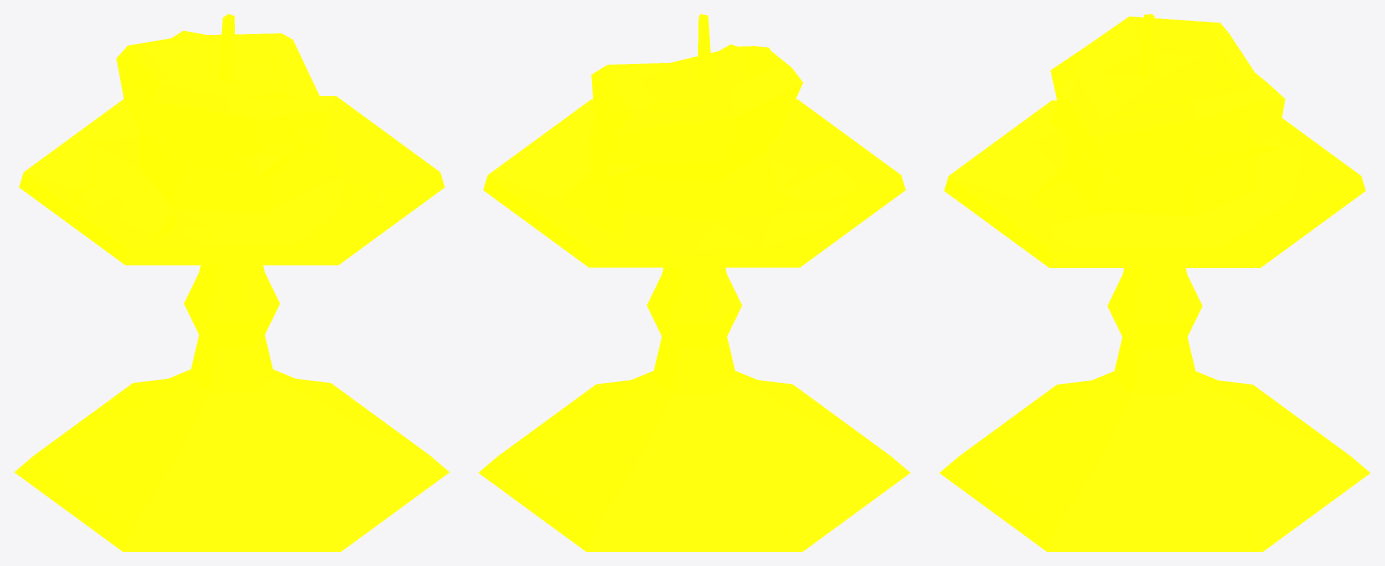
Rendered from candle-holder-short-b-unlit-christmas.glb.
3 views of the same model, side by side, from view 1: azimuth 30°, elevation 25°; view 2: azimuth 150°, elevation 25°; view 3: azimuth 270°, elevation 25° (orthographic).
Visible parts, largest first — view 1: candle_holder_short_b_unlit_christmas; view 2: candle_holder_short_b_unlit_christmas; view 3: candle_holder_short_b_unlit_christmas.
Boxes of the visible parts, left/top/right/bottom form: candle_holder_short_b_unlit_christmas: left=14, top=14, right=449, bottom=551; candle_holder_short_b_unlit_christmas: left=478, top=14, right=910, bottom=551; candle_holder_short_b_unlit_christmas: left=939, top=14, right=1370, bottom=551.
Size of the model in its own units: 0.1495 by 0.2011 by 0.1727.
1 material, 1 textured.
